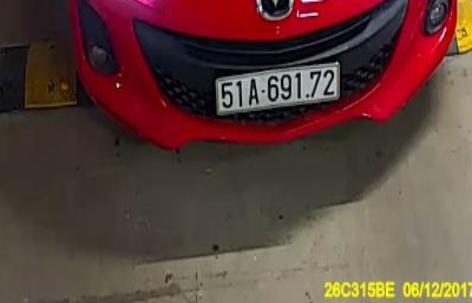plate: (213, 53, 345, 116)
